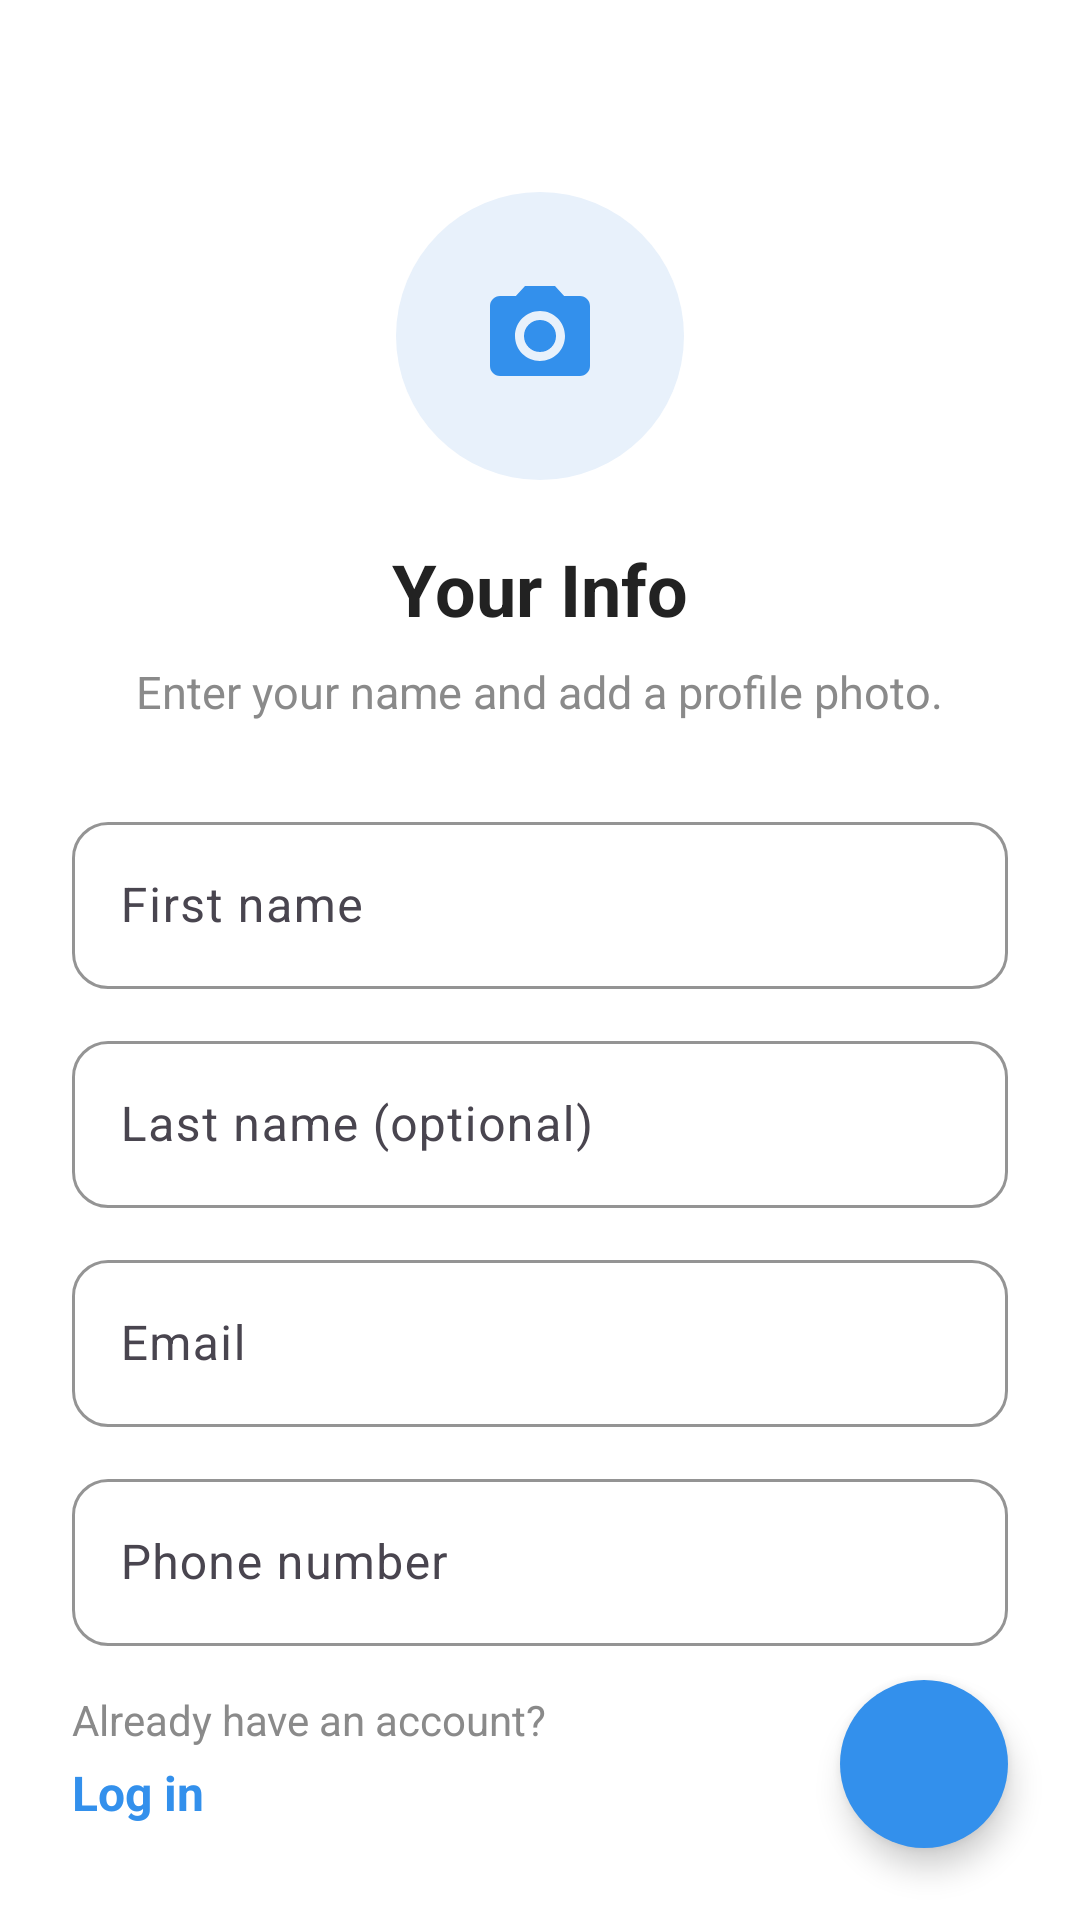

Screen size 1080*1920. Icon name, then its box in pixels as {"left": x1, "top": y1, "right": x2, "bottom": y2}:
camera: {"left": 490, "top": 286, "right": 590, "bottom": 376}
